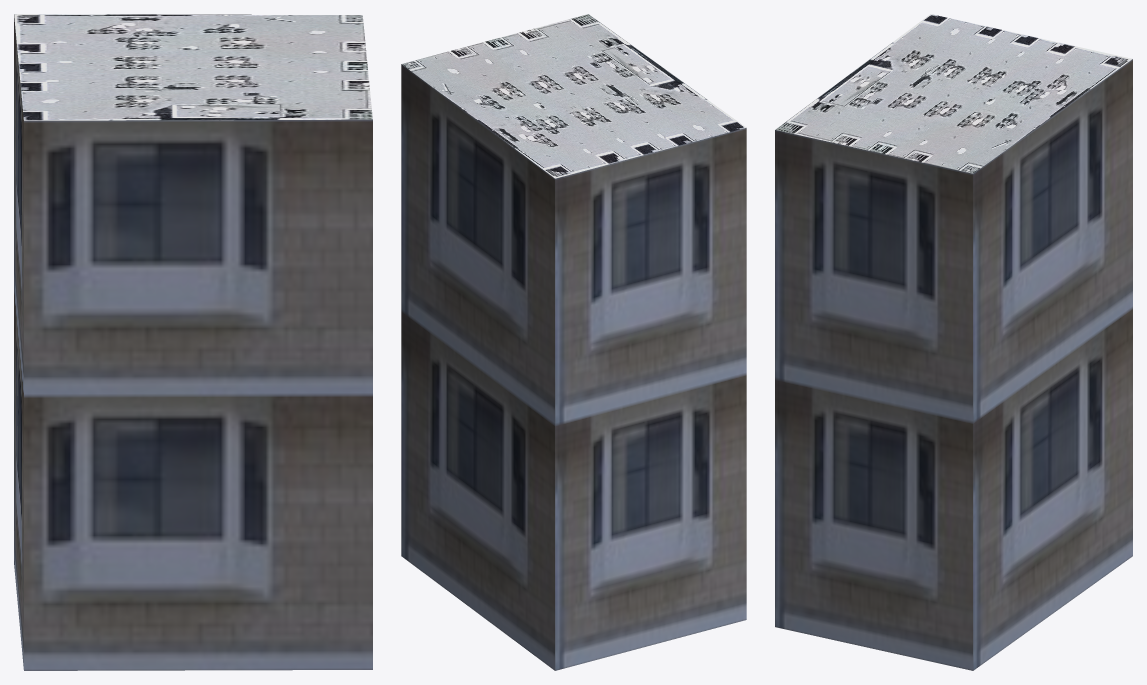
Rendered from ResTex__696.fbx.
The picture shows the model from 3 angles, left to right: view 1: azimuth 30°, elevation 25°; view 2: azimuth 150°, elevation 25°; view 3: azimuth 270°, elevation 25°; orthographic projection. The views are drawn at different scales.
Visible parts, largest first — view 1: CityEngineMaterial_3_m, CityEngineMaterial_4_m; view 2: CityEngineMaterial_3_m, CityEngineMaterial_4_m; view 3: CityEngineMaterial_3_m, CityEngineMaterial_4_m.
Part boxes in pixels (bbox=[...]): CityEngineMaterial_3_m: bbox=[14, 15, 372, 670]; CityEngineMaterial_4_m: bbox=[14, 14, 372, 120]; CityEngineMaterial_3_m: bbox=[401, 64, 746, 670]; CityEngineMaterial_4_m: bbox=[402, 14, 746, 178]; CityEngineMaterial_3_m: bbox=[775, 59, 1132, 670]; CityEngineMaterial_4_m: bbox=[775, 14, 1132, 173].
Size of the model in its own units: 4.14 by 6 by 3.91.
2 materials, 2 textured.
